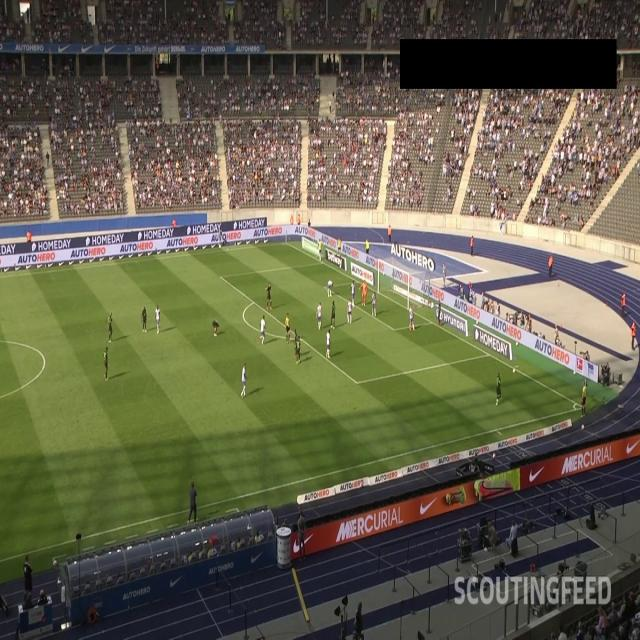ball: (511, 366, 517, 377)
player: (240, 361, 248, 402), (103, 344, 110, 379), (107, 310, 114, 344), (259, 314, 266, 342), (496, 371, 501, 408), (212, 317, 220, 340), (371, 290, 378, 316), (155, 303, 161, 333), (141, 306, 147, 335), (361, 277, 367, 306), (266, 282, 272, 310), (409, 304, 415, 332), (331, 300, 336, 331), (327, 328, 332, 358), (294, 329, 300, 354), (296, 334, 301, 363), (316, 304, 322, 328), (327, 279, 334, 298), (347, 298, 352, 323), (351, 281, 355, 307)
